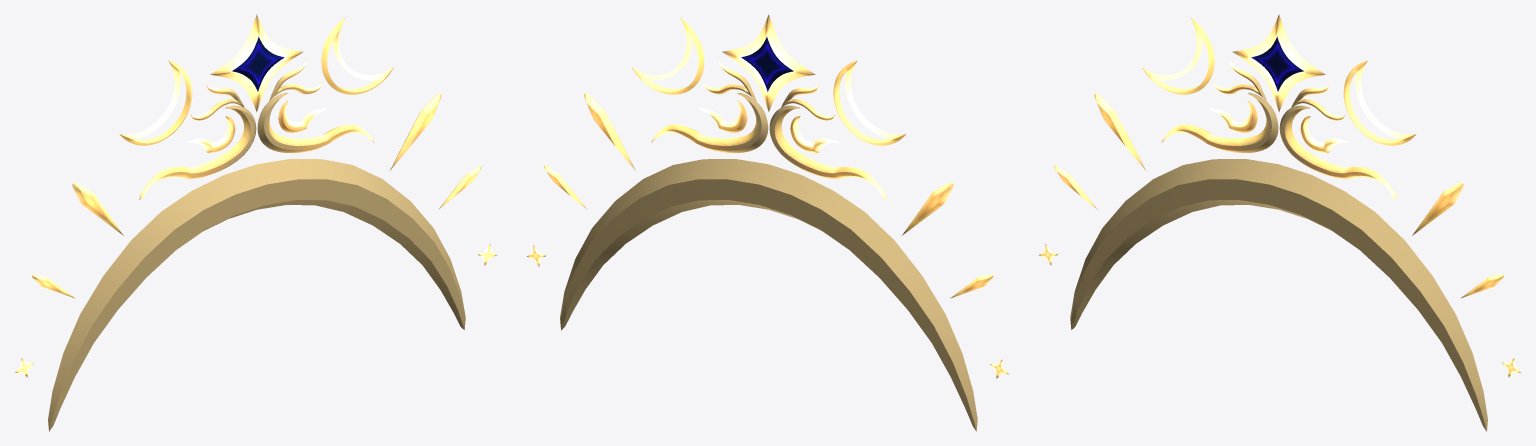
File: Wonder Arc.fbx
The picture shows the model from 3 angles, left to right: view 1: azimuth 30°, elevation 25°; view 2: azimuth 150°, elevation 25°; view 3: azimuth 330°, elevation 25°; orthographic projection.
Visible parts, largest first — view 1: Wonder Arc; view 2: Wonder Arc; view 3: Wonder Arc.
Part boxes in pixels (x1,y1,x2,y2): Wonder Arc: (15, 14, 496, 431); Wonder Arc: (527, 14, 1008, 431); Wonder Arc: (1039, 14, 1520, 431).
Size of the model in its own units: 0.1965 by 0.1428 by 0.0135.
